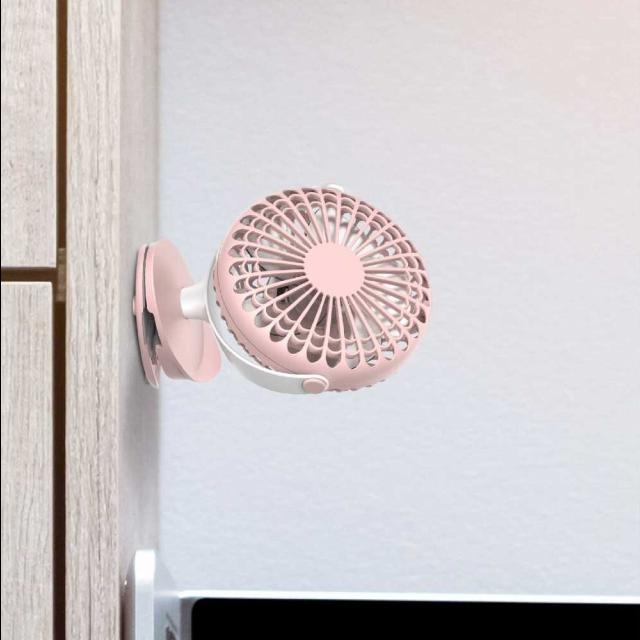fan: (114, 180, 430, 397)
